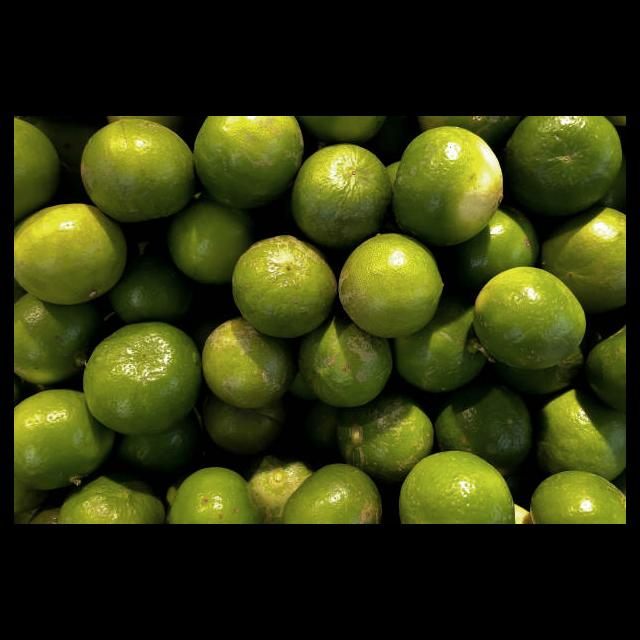lime: (287, 143, 404, 271), (500, 116, 625, 219), (14, 202, 127, 309), (228, 235, 339, 341), (191, 116, 309, 213), (282, 466, 384, 524), (14, 116, 60, 229)
